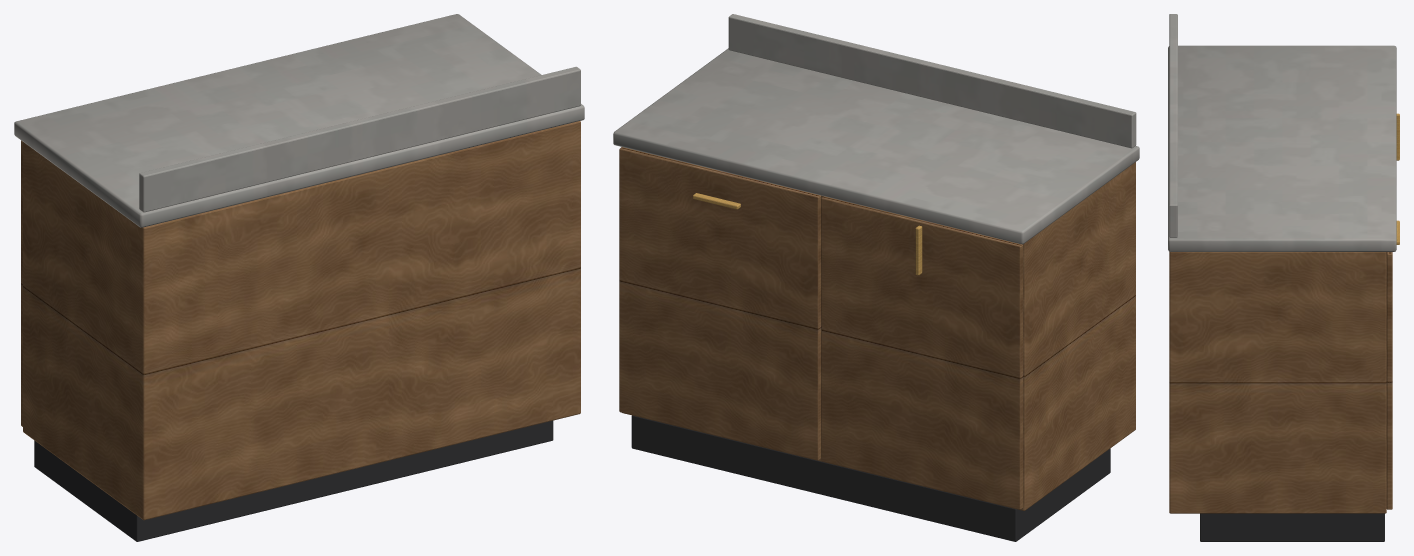
Rendered from utility_bench.glb.
The picture shows the model from 3 angles, left to right: view 1: azimuth 30°, elevation 25°; view 2: azimuth 150°, elevation 25°; view 3: azimuth 270°, elevation 25°; orthographic projection. The views are drawn at different scales.
Parts seen in each view (by area): view 1: utility_bench; view 2: utility_bench; view 3: utility_bench.
Boxes of the visible parts, x1=… form: utility_bench: x1=14, y1=14, x2=584, y2=541; utility_bench: x1=613, y1=14, x2=1139, y2=541; utility_bench: x1=1168, y1=14, x2=1399, y2=541.
Size of the model in its own units: 1.27 by 1.04 by 0.639.
Materials: 4 (3 with a texture image).
